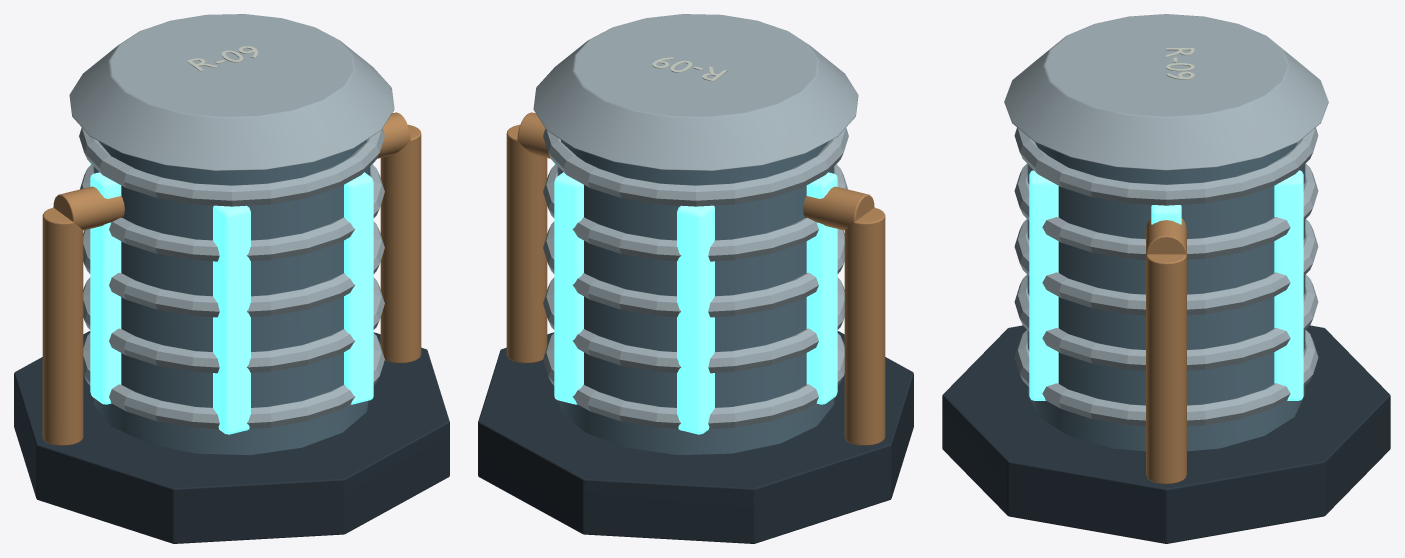
The model's file is 19_reactor.glb.
The picture shows the model from 3 angles, left to right: view 1: azimuth 30°, elevation 25°; view 2: azimuth 150°, elevation 25°; view 3: azimuth 270°, elevation 25°; orthographic projection.
Parts seen in each view (by area): view 1: Containment ring, Generator deck, Reactor body, Coolant pipe, Core window; view 2: Containment ring, Generator deck, Reactor body, Coolant pipe, Core window; view 3: Containment ring, Generator deck, Reactor body, Core window, Coolant pipe, Text.
Part boxes in pixels (bbox=[...]): Containment ring: bbox=[69, 14, 394, 429]; Generator deck: bbox=[14, 331, 449, 543]; Reactor body: bbox=[93, 140, 370, 454]; Coolant pipe: bbox=[42, 112, 421, 445]; Core window: bbox=[90, 163, 373, 434]; Containment ring: bbox=[533, 14, 858, 429]; Generator deck: bbox=[478, 331, 913, 543]; Reactor body: bbox=[557, 140, 834, 454]; Coolant pipe: bbox=[506, 112, 885, 445]; Core window: bbox=[554, 163, 837, 434]; Containment ring: bbox=[1004, 14, 1328, 426]; Generator deck: bbox=[942, 325, 1390, 543]; Reactor body: bbox=[1027, 142, 1305, 451]; Core window: bbox=[1029, 170, 1303, 400]; Coolant pipe: bbox=[1146, 218, 1186, 484]; Text: bbox=[1166, 48, 1194, 79].
Bounding box in the file's own units: 2.2 × 2.09 × 2.2.
